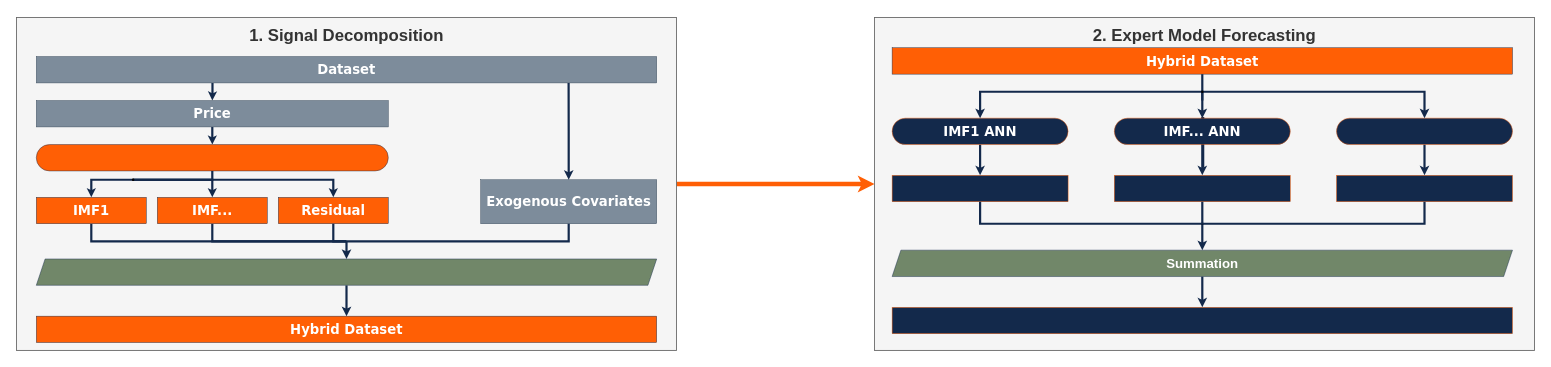
Some shapes in this 1551 by 367 pixel diagram are drawn without their labels. Each missing label, with the centre of its shape:
"Concatenate" belongs at (x=346, y=271).
"IMF... Forecast" belongs at (x=1202, y=188).
"IMF1 Forecast" belongs at (x=980, y=188).
"Price Forecast" belongs at (x=1202, y=320).
"Residual ANN" belongs at (x=1424, y=131).
"Residual Forecast" belongs at (x=1424, y=188).
"VMD" belongs at (x=212, y=157).
